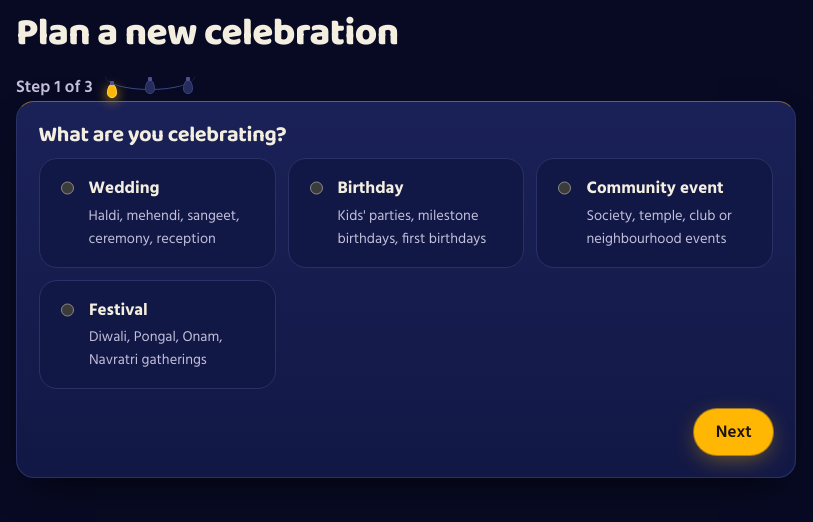
Wizard › asks for a type before moving on
Click the button "Next".
click(734, 432)  # box x1=694 y1=409 x2=773 y2=455
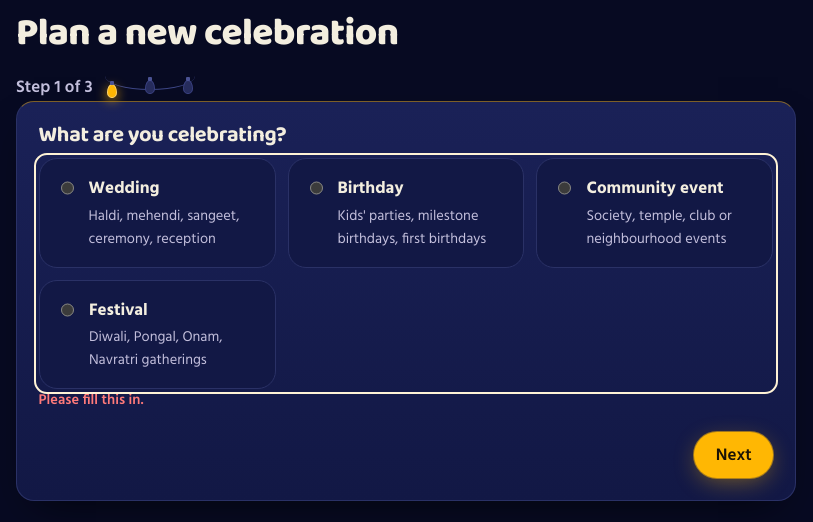
Expected: the text "Please fill this in." is shown, x1=39 y1=389 x2=144 y2=412
